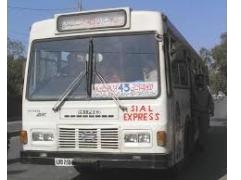bus: (21, 8, 212, 175)
